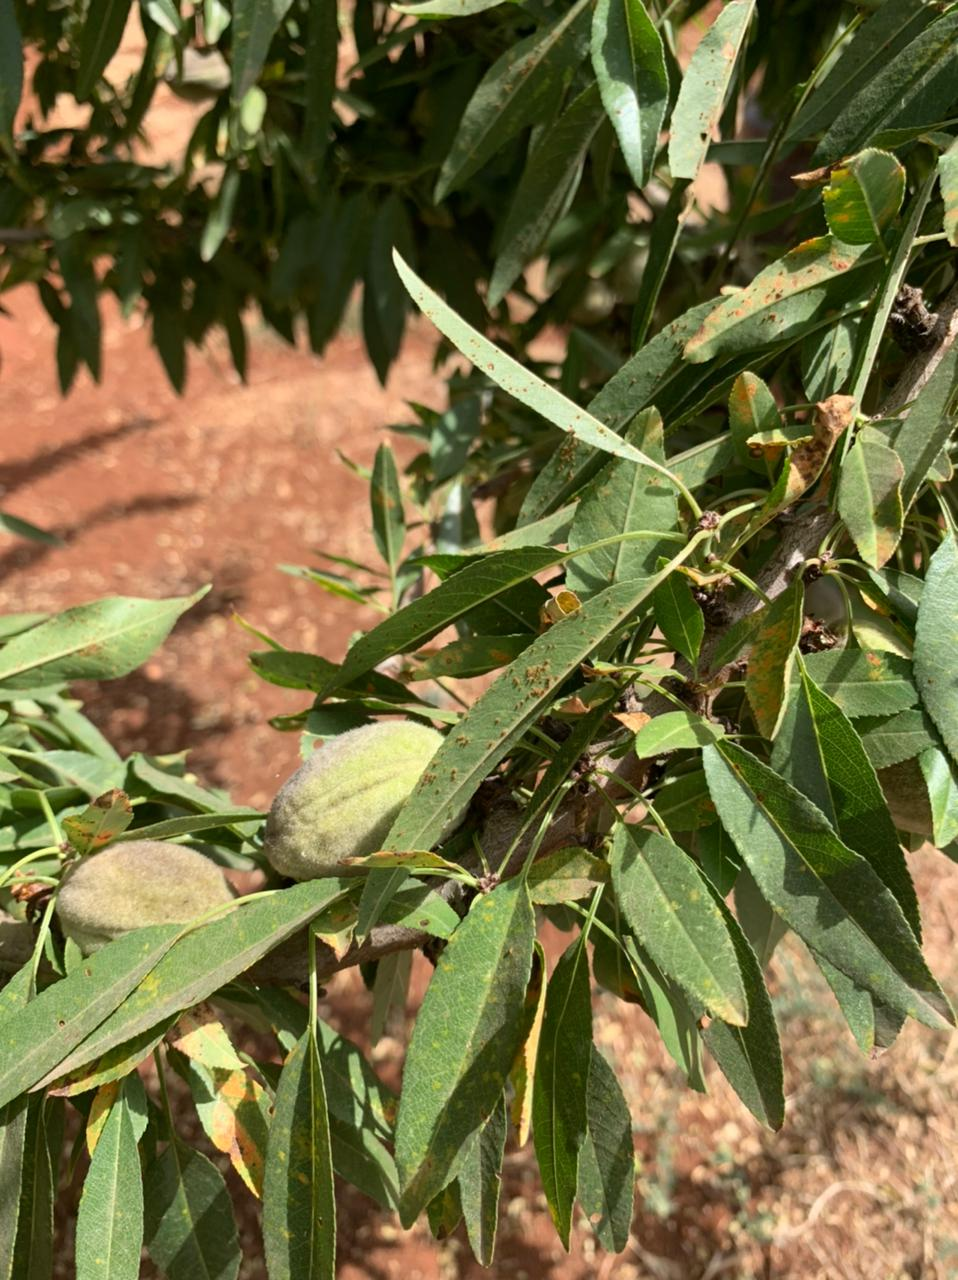rouille: (352, 575, 660, 935), (516, 292, 732, 529), (1, 921, 183, 1108), (431, 18, 579, 204), (613, 826, 745, 1026), (683, 233, 870, 363), (1, 584, 213, 687), (668, 1, 756, 190)
